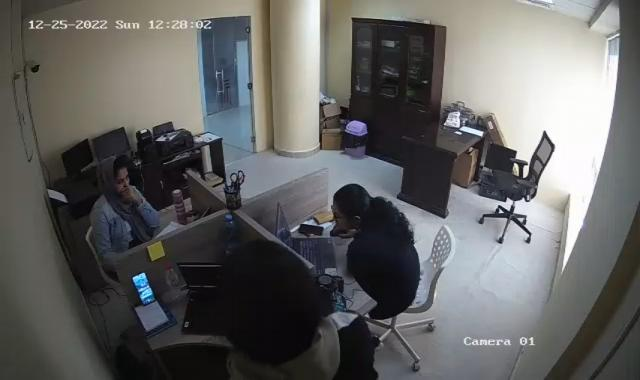no_hairnet: (213, 242, 317, 349), (329, 182, 379, 238), (98, 156, 134, 189)
